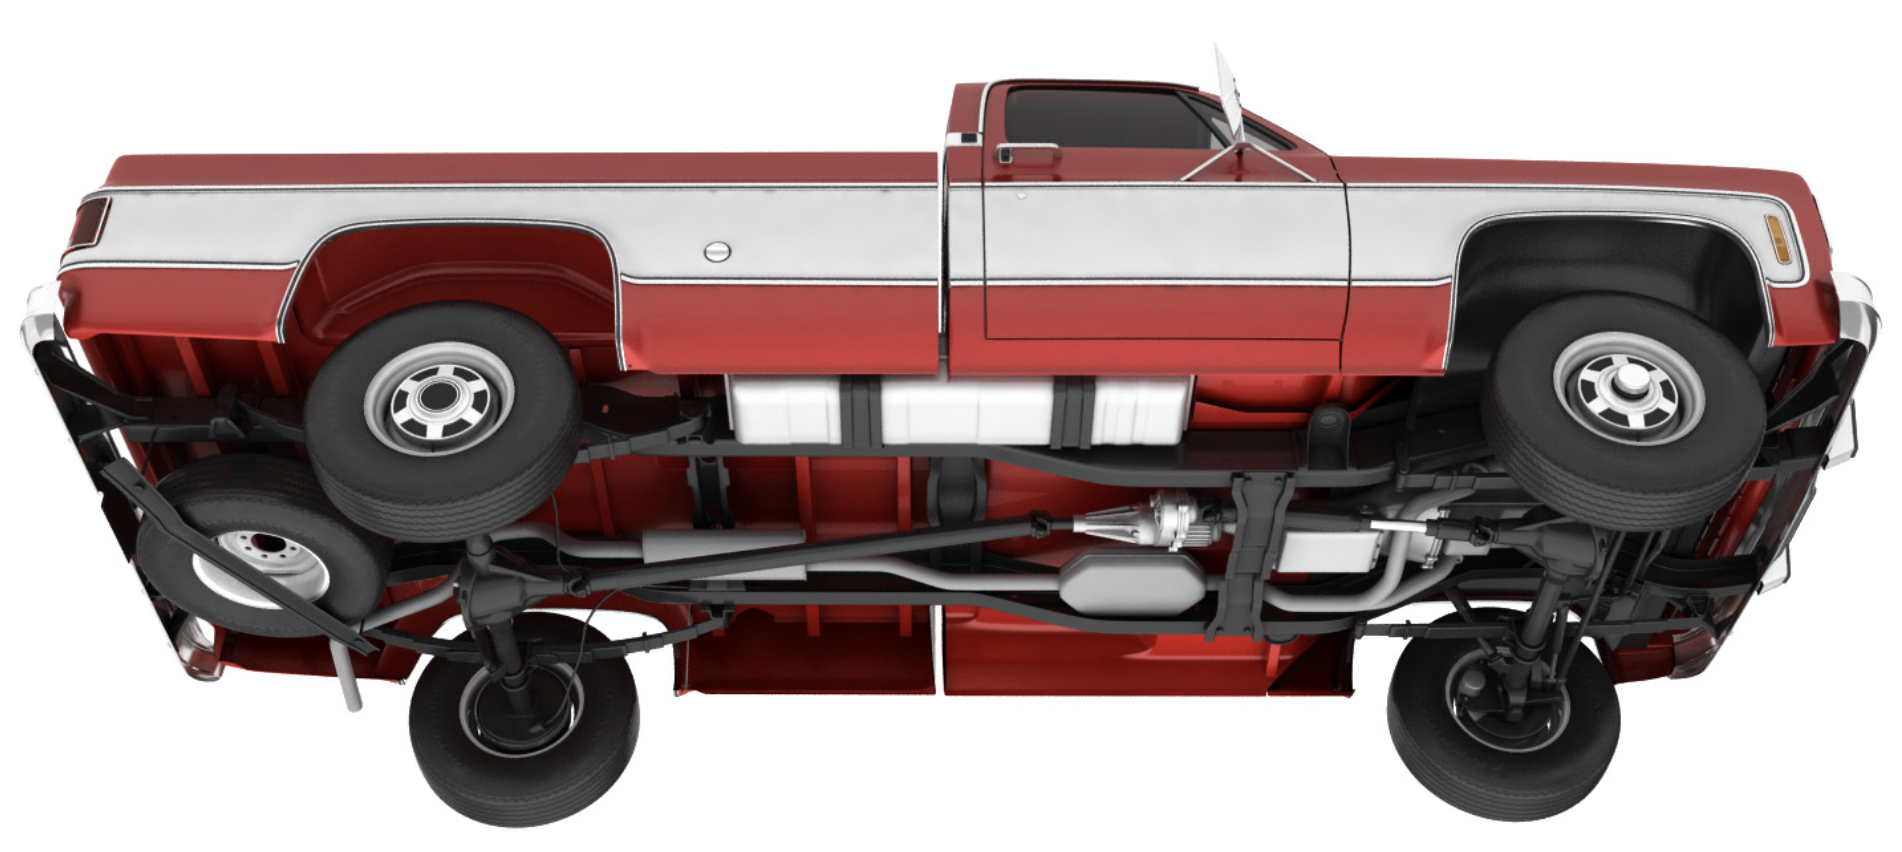hatch: (693, 231, 742, 271)
